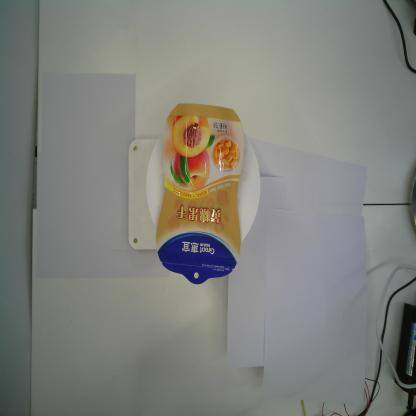Dried Fruit: (156, 102, 244, 284)
